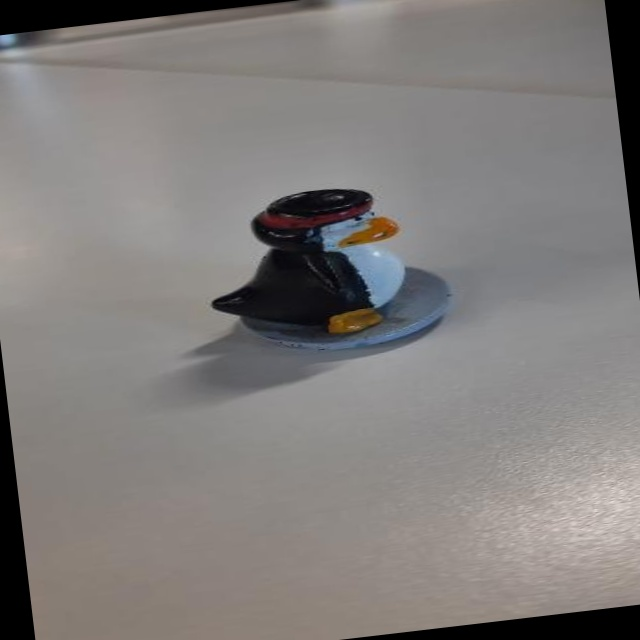Penguin: (177, 149, 478, 381)
